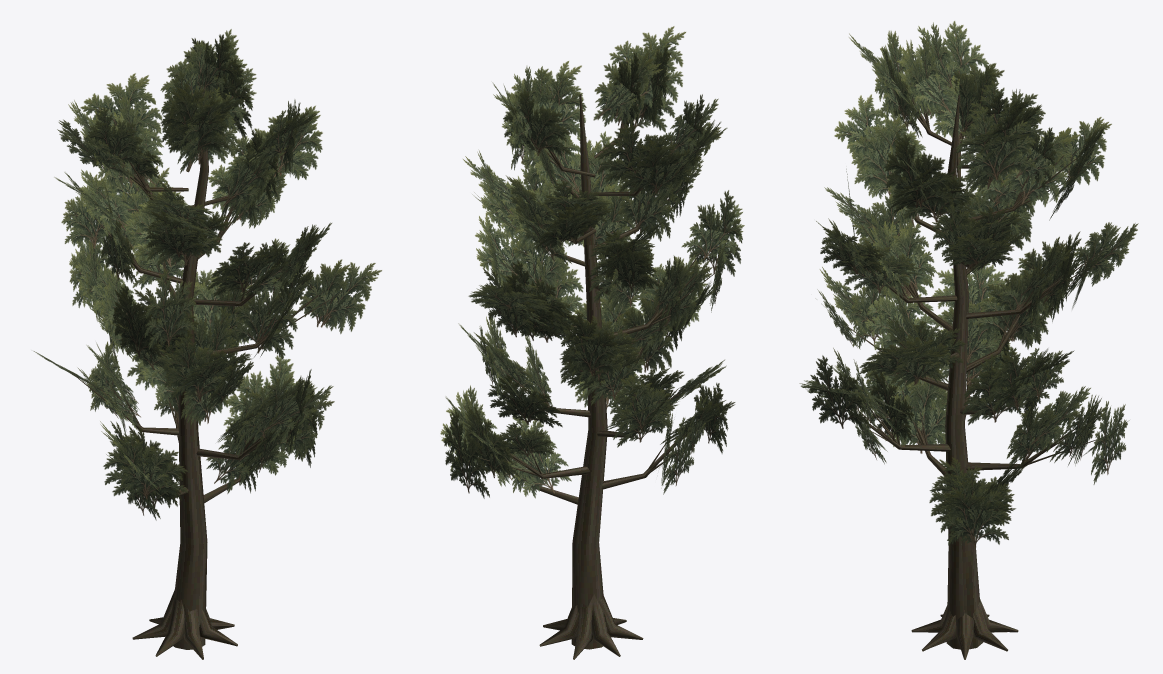
The model's file is temple_cypress_b.glb.
3 renders of one model, left to right at view 1: azimuth 30°, elevation 25°; view 2: azimuth 150°, elevation 25°; view 3: azimuth 270°, elevation 25°, orthographic.
Parts seen in each view (by area): view 1: temple_cypress_b foliage, temple_cypress_b wood; view 2: temple_cypress_b foliage, temple_cypress_b wood; view 3: temple_cypress_b foliage, temple_cypress_b wood.
Part boxes in pixels (left/top/right/bottom): temple_cypress_b foliage: left=33, top=29, right=381, bottom=520; temple_cypress_b wood: left=70, top=65, right=342, bottom=659; temple_cypress_b foliage: left=440, top=26, right=744, bottom=498; temple_cypress_b wood: left=477, top=80, right=715, bottom=659; temple_cypress_b foliage: left=799, top=21, right=1138, bottom=548; temple_cypress_b wood: left=847, top=62, right=1106, bottom=659.
Size of the model in its own units: 12.41 by 22.94 by 12.69.
2 materials, 2 textured.
